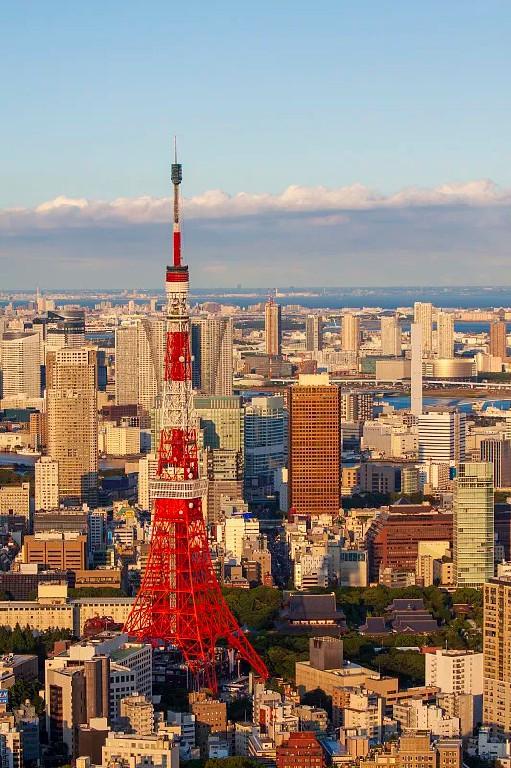Tokyo: (121, 135, 271, 689)
